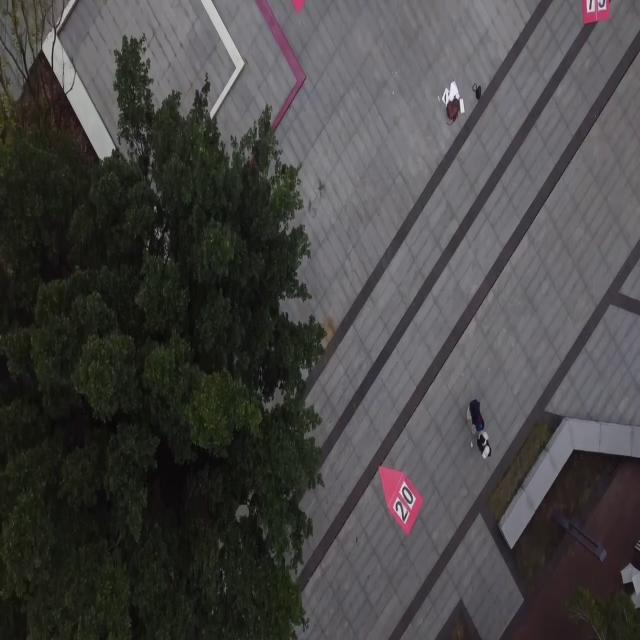-sign-: (378, 464, 423, 537), (582, 0, 610, 25)
